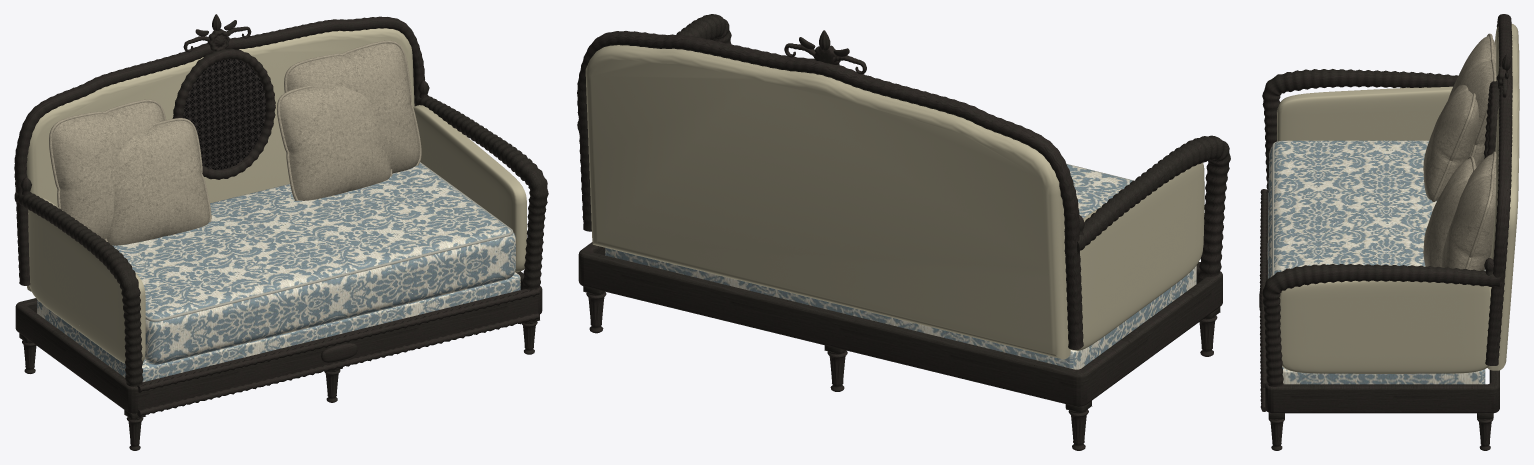
The picture shows the model from 3 angles, left to right: view 1: azimuth 30°, elevation 25°; view 2: azimuth 150°, elevation 25°; view 3: azimuth 270°, elevation 25°; orthographic projection. The views are drawn at different scales.
Bounding box in the file's own units: 1.66 × 1.13 × 0.8872.
Materials: 7 (7 with a texture image).
